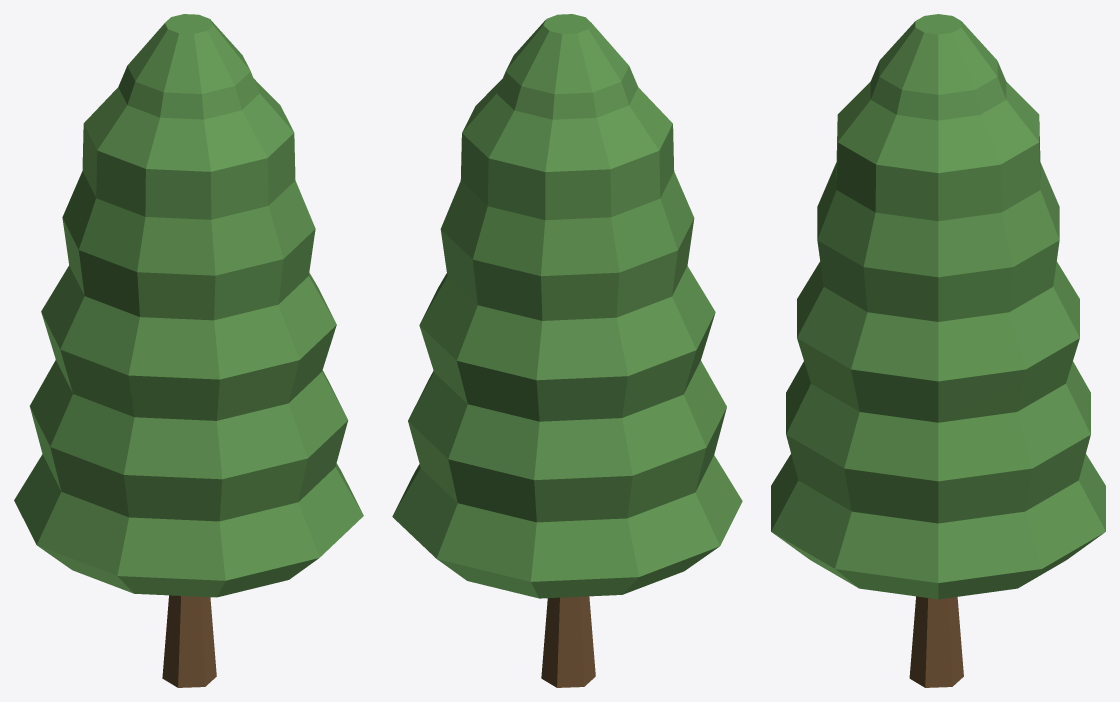
Rendered from tree3d-104.glb.
3 renders of one model, left to right at view 1: azimuth 30°, elevation 25°; view 2: azimuth 150°, elevation 25°; view 3: azimuth 270°, elevation 25°, orthographic.
Parts seen in each view (by area): view 1: tree3d-104; view 2: tree3d-104; view 3: tree3d-104.
Part boxes in pixels (x1=…): tree3d-104: x1=14, y1=14, x2=363, y2=687; tree3d-104: x1=392, y1=14, x2=742, y2=687; tree3d-104: x1=771, y1=14, x2=1105, y2=687.
Size of the model in its own units: 0.4885 by 1 by 0.4646.
